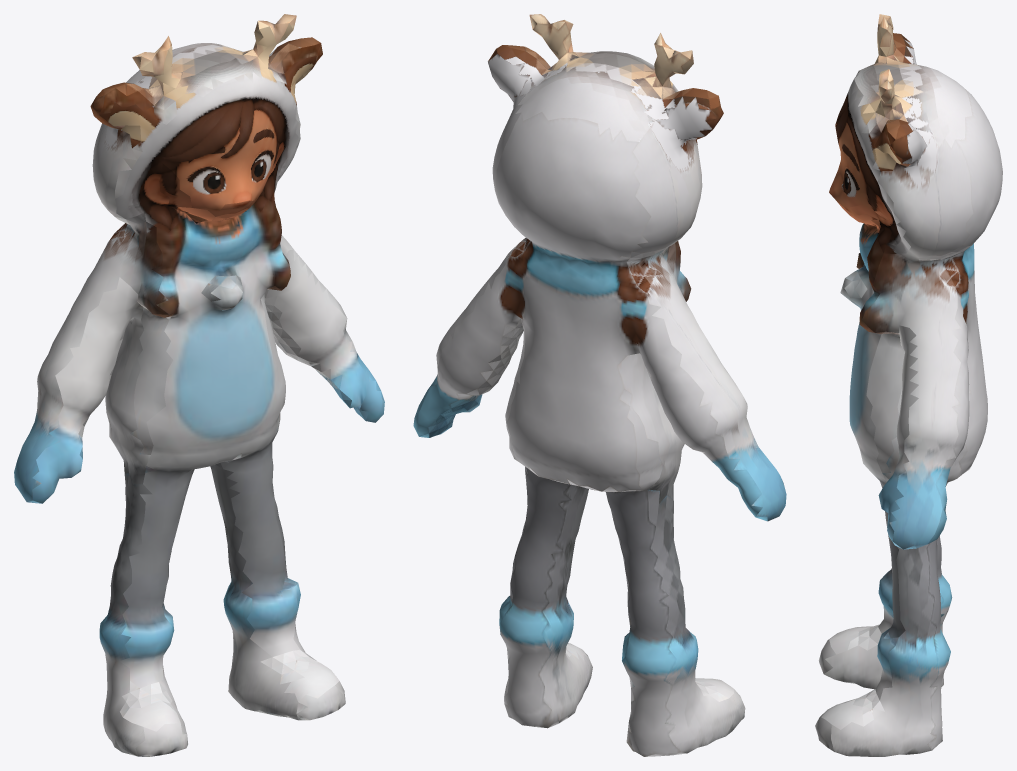
Rendered from snowflake-nutmeg-toon-x5.glb.
The picture shows the model from 3 angles, left to right: view 1: azimuth 30°, elevation 25°; view 2: azimuth 150°, elevation 25°; view 3: azimuth 270°, elevation 25°; orthographic projection. The views are drawn at different scales.
Visible parts, largest first — view 1: world; view 2: world; view 3: world.
Part boxes in pixels (x1,y1,x2,y2): world: (14, 14, 384, 756); world: (413, 14, 786, 756); world: (815, 14, 1002, 756).
Size of the model in its own units: 2.53 by 4.72 by 1.19.
Materials: 1 (1 with a texture image).
